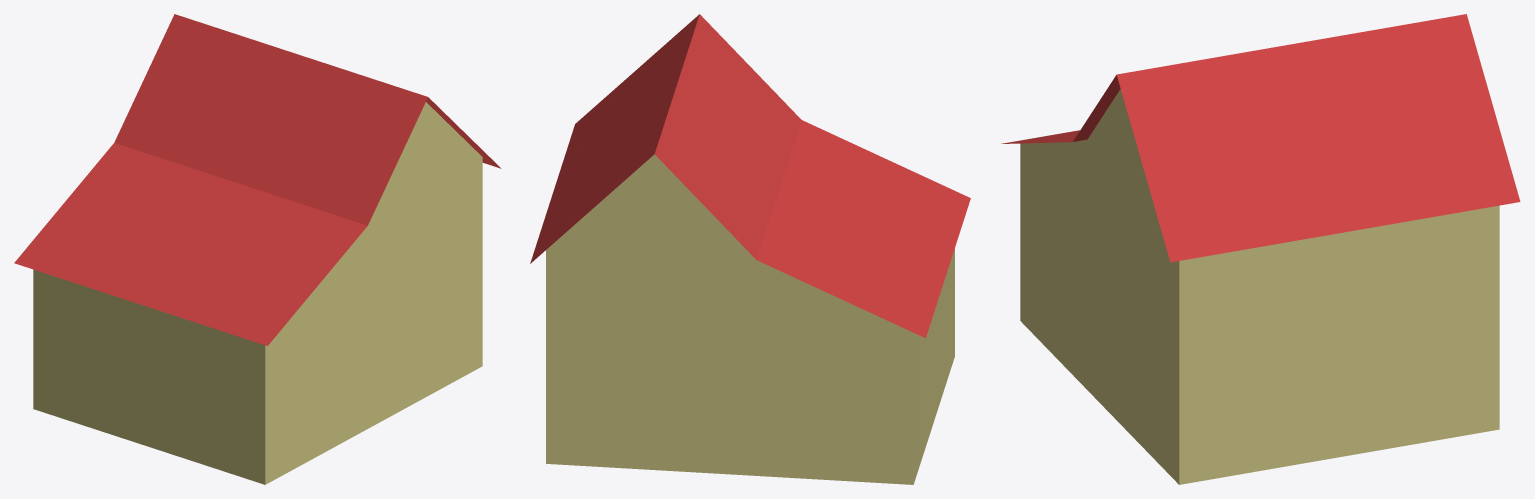
3 views of the same model, side by side, from view 1: azimuth 30°, elevation 25°; view 2: azimuth 150°, elevation 25°; view 3: azimuth 270°, elevation 25° (orthographic). The views are drawn at different scales.
Bounding box in the file's own units: 17.41 × 16.17 × 12.46.
